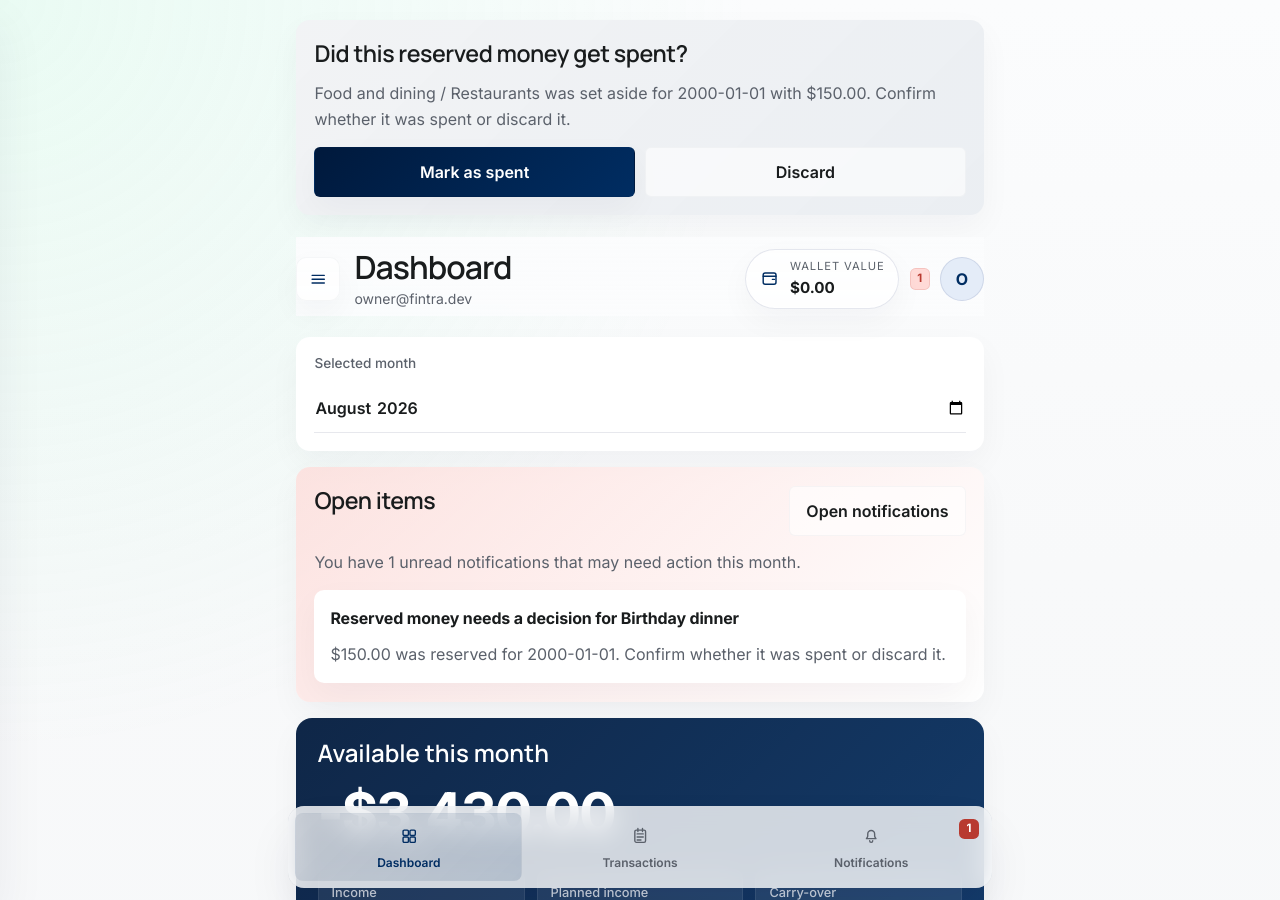
App authentication routing › prompts for overdue set-asides and converts them into transactions
The width and height of the screenshot is (1280, 900).
Expected: the heading "Did this reserved money get spent?" is shown, [314,40,688,67]
Click the button "Mark as spent": {"x": 475, "y": 172} [314,147,635,197]
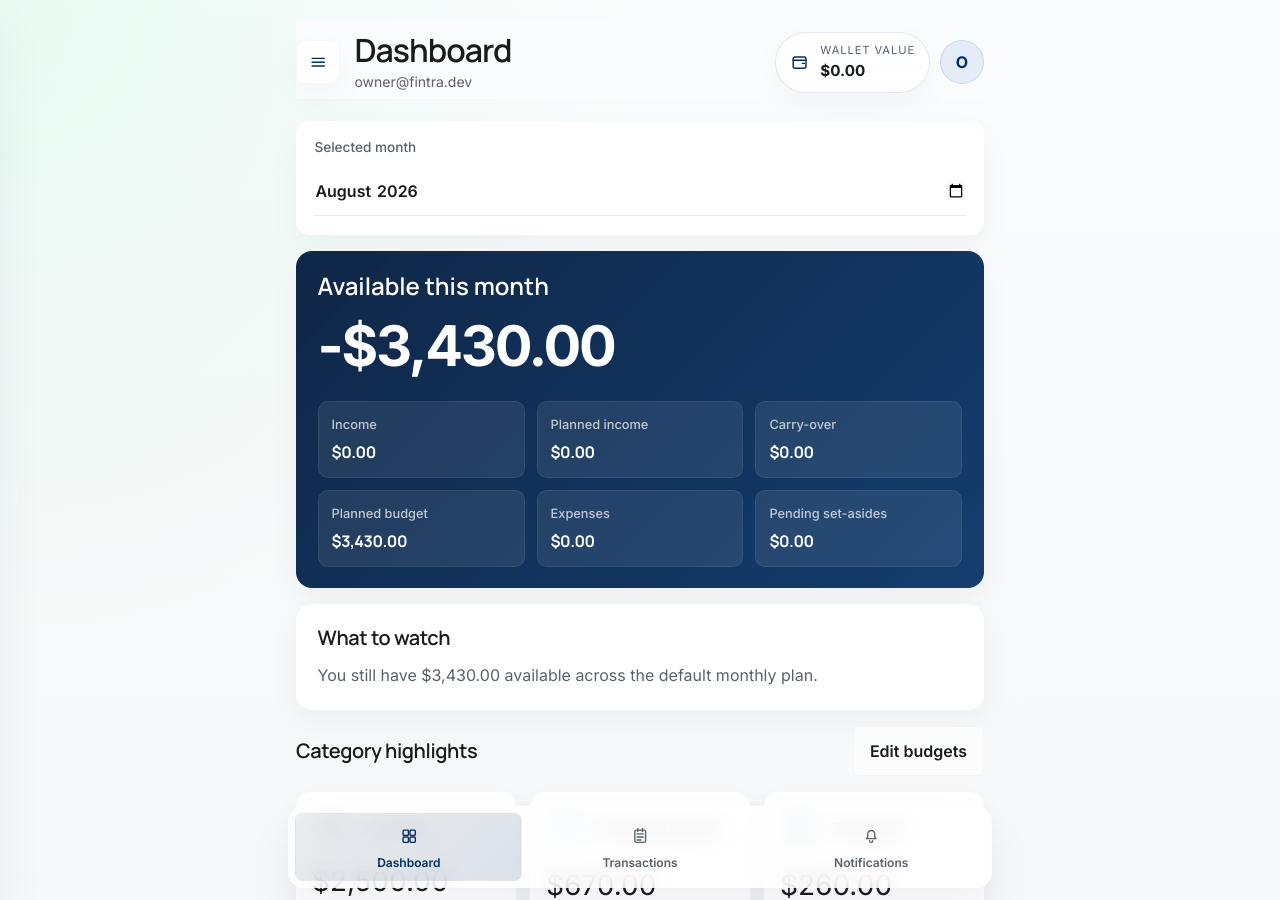
Expected: the heading "Did this reserved money get spent" is gone
